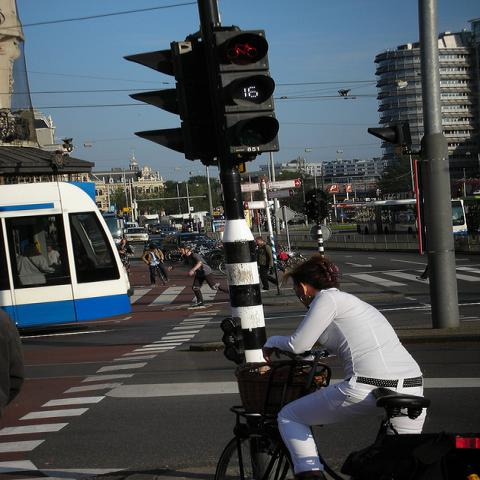bus: (1, 180, 131, 328), (356, 198, 467, 236), (102, 214, 124, 244)
car: (160, 233, 212, 261), (124, 227, 150, 242), (143, 237, 166, 253), (160, 226, 180, 237)
